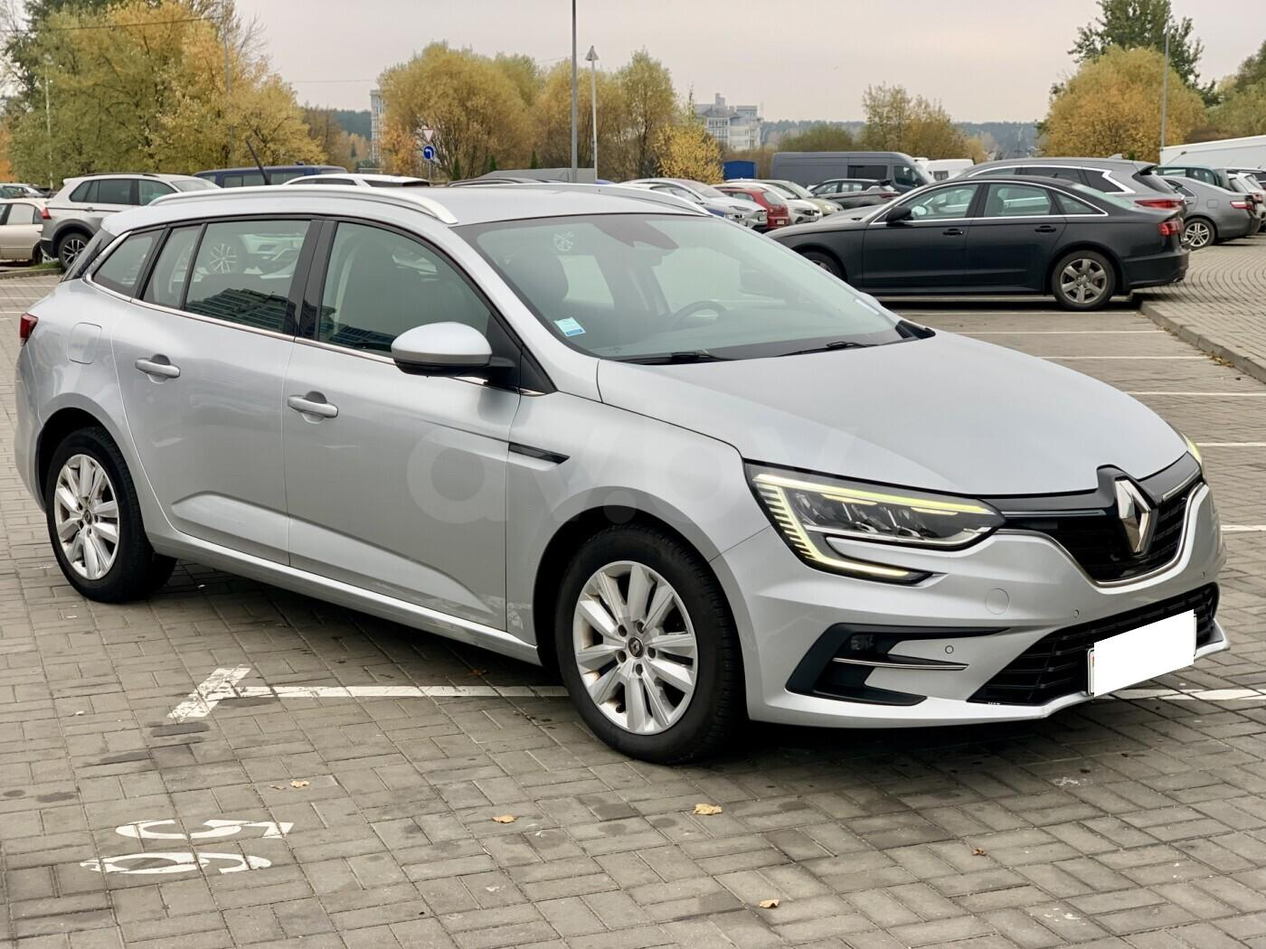Megane_2020: (6, 176, 1216, 782)
